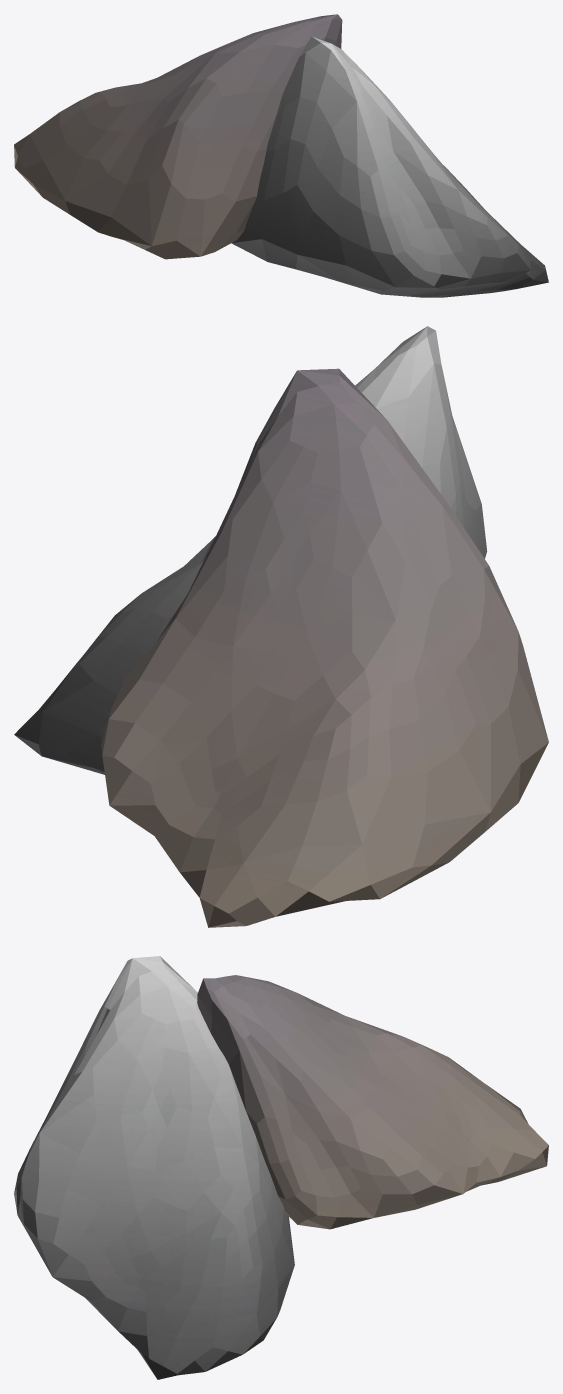
3 renders of one model, top to bottom at view 1: azimuth 30°, elevation 25°; view 2: azimuth 150°, elevation 25°; view 3: azimuth 270°, elevation 25°, orthographic. The views are drawn at different scales.
Parts seen in each view (by area): view 1: DoubleRockShape_High; view 2: DoubleRockShape_High; view 3: DoubleRockShape_High.
Boxes of the visible parts, x1,y1,x2,y2 form: DoubleRockShape_High: (14,14,548,297); DoubleRockShape_High: (14,326,548,927); DoubleRockShape_High: (14,956,548,1379).
Bounding box in the file's own units: 16.42 × 12.33 × 19.27.
Materials: 1 (1 with a texture image).
